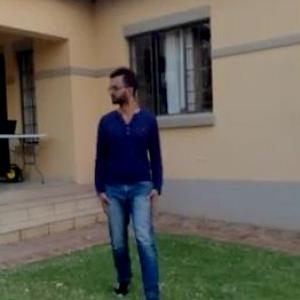follow: (89, 54, 173, 299)
